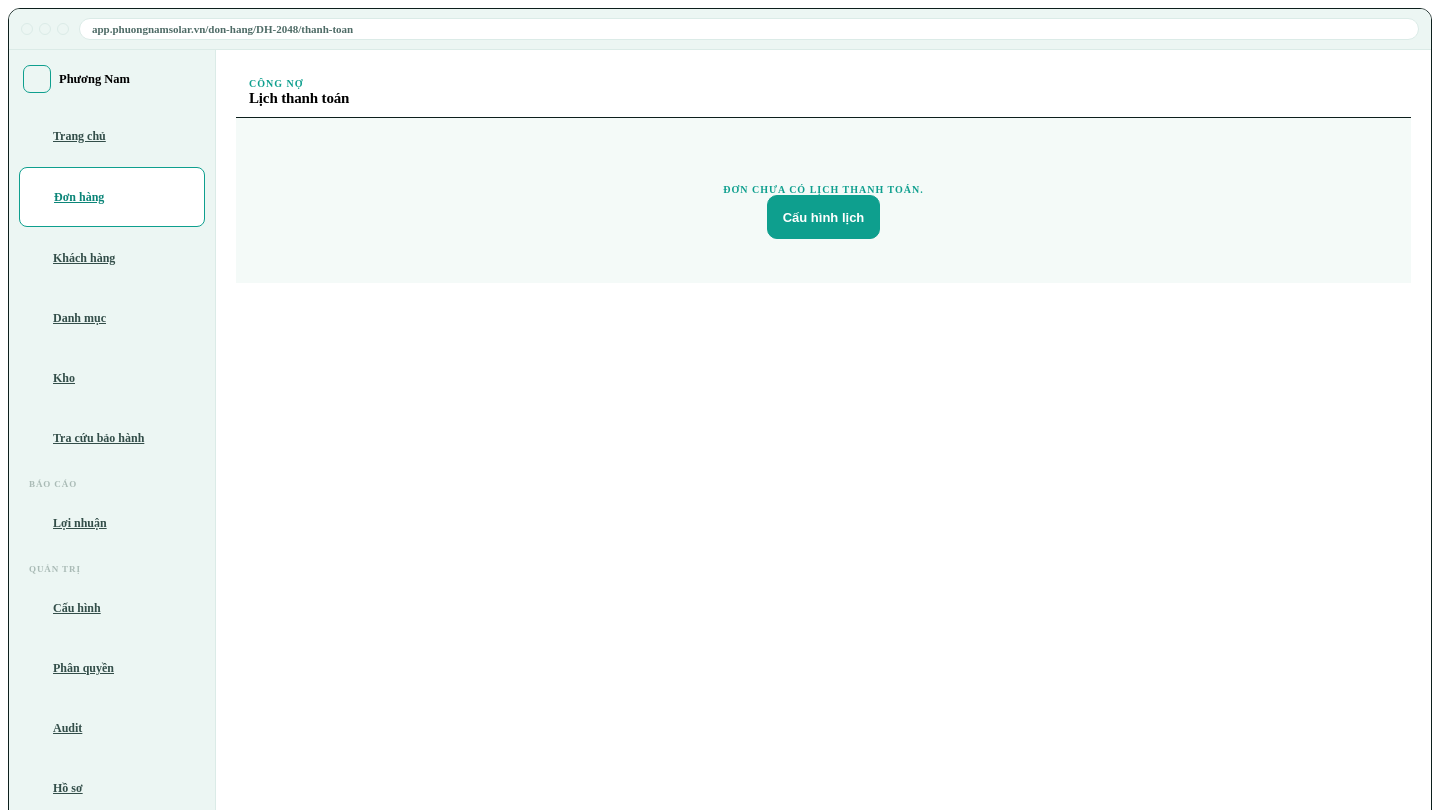
Test case: PaymentScheduleScreen — edit › template 20/70/10 + save sends exactly the typed percents, then shows the returned schedule
Click the button "Cấu hình lịch" at (824, 217), box [767,195,880,239]
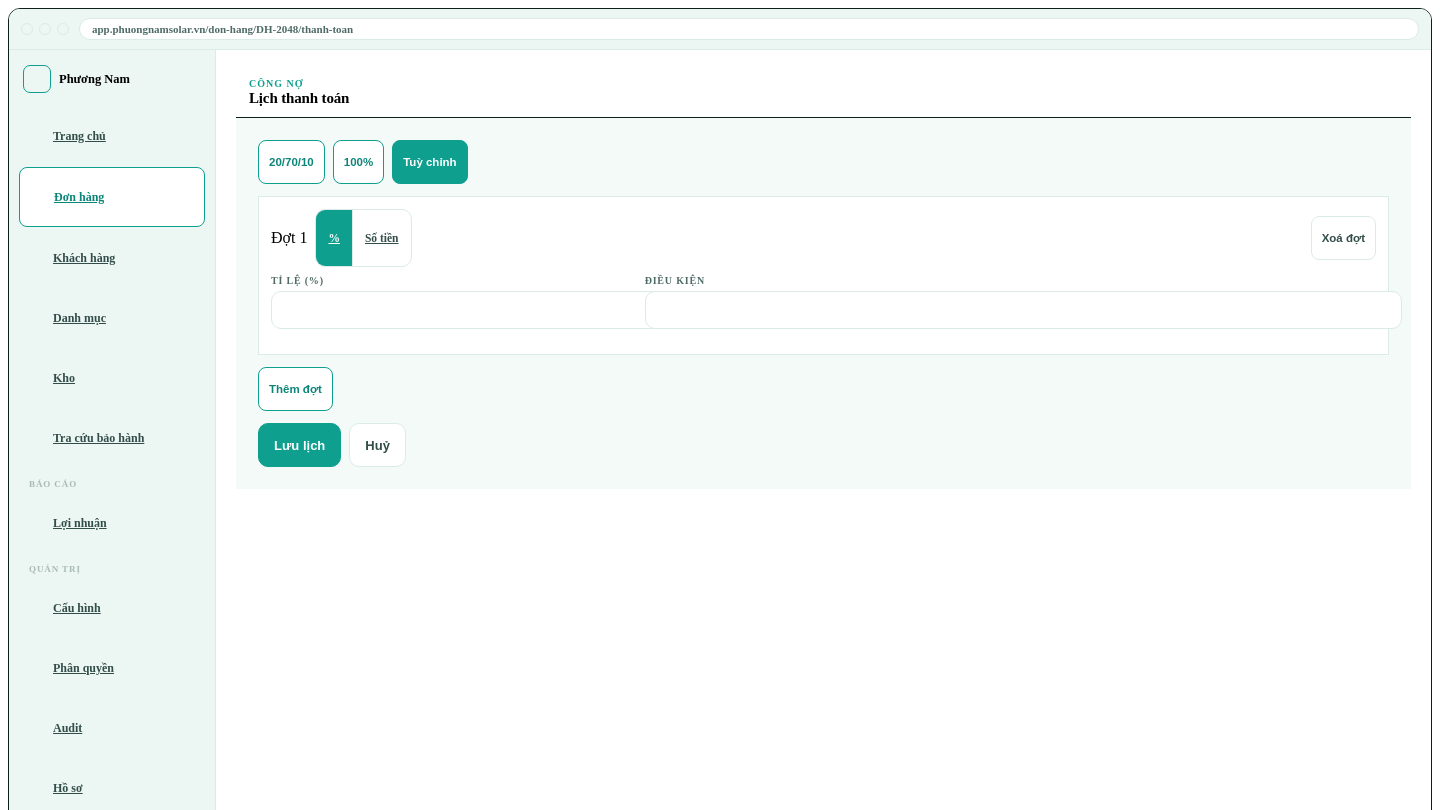
Click the button "20/70/10" at (291, 162), box [258,140,325,184]
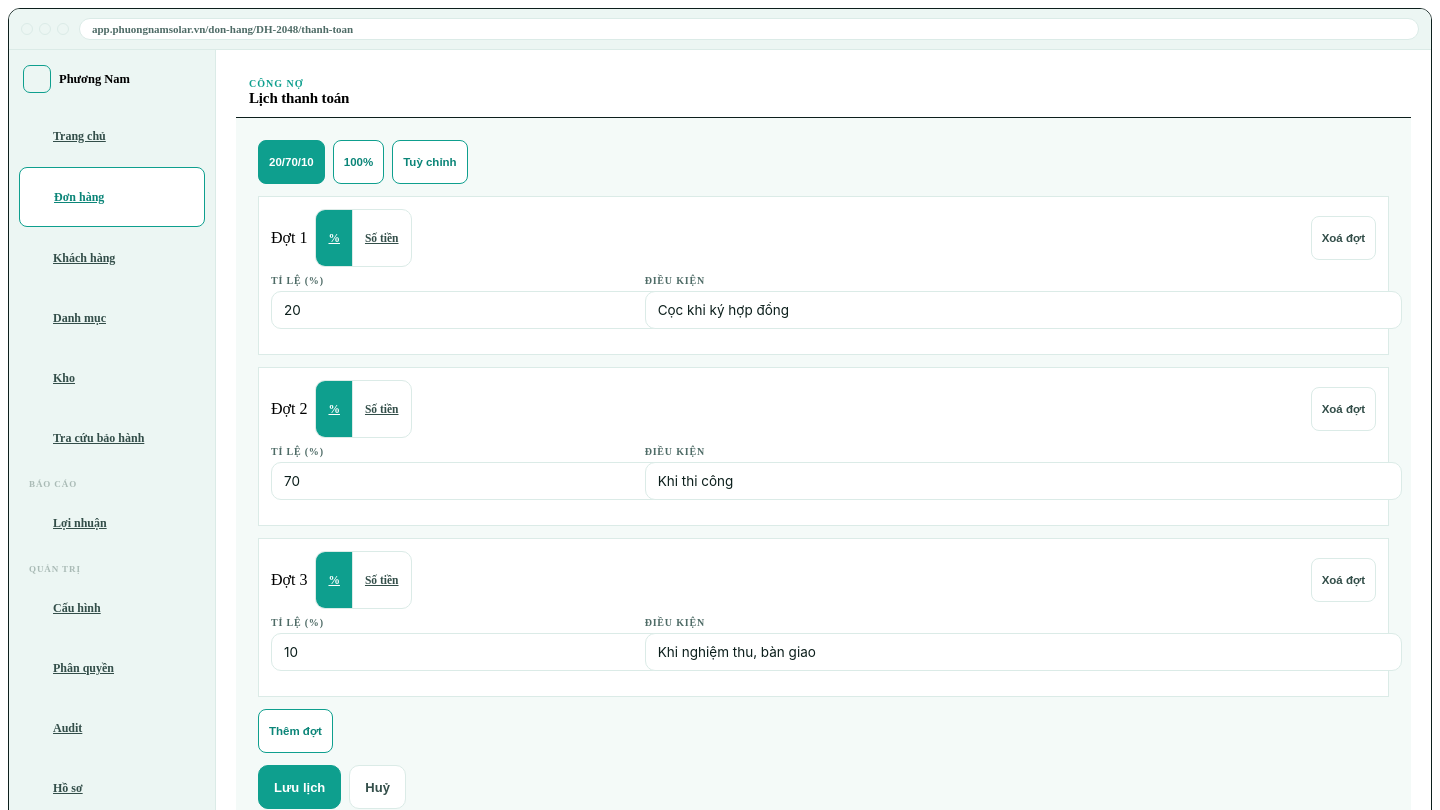
Click the button "Lưu lịch" at (300, 787), box [258,765,341,809]
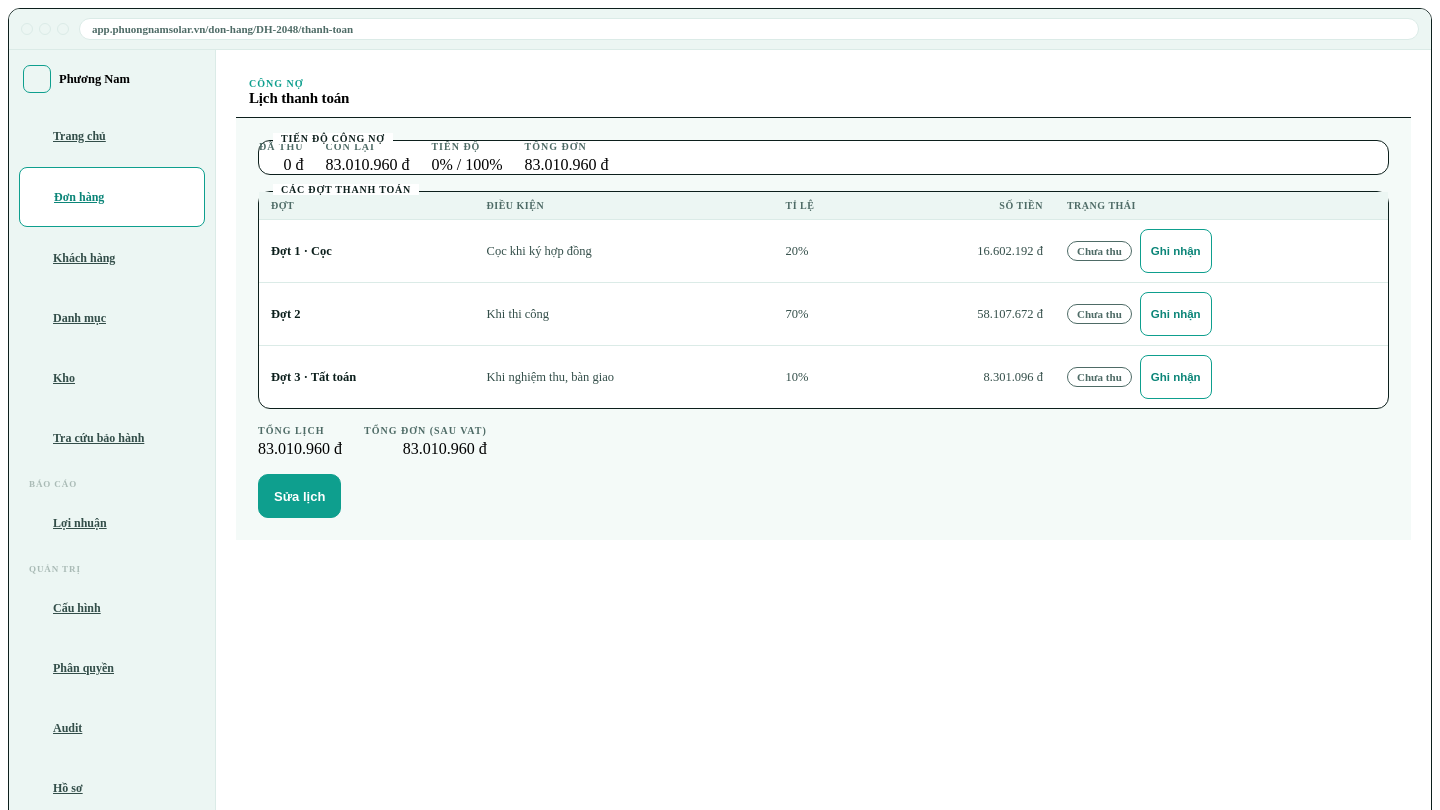
Expected: the text "Đợt 3 · Tất toán" is shown, [259,346,475,408]
